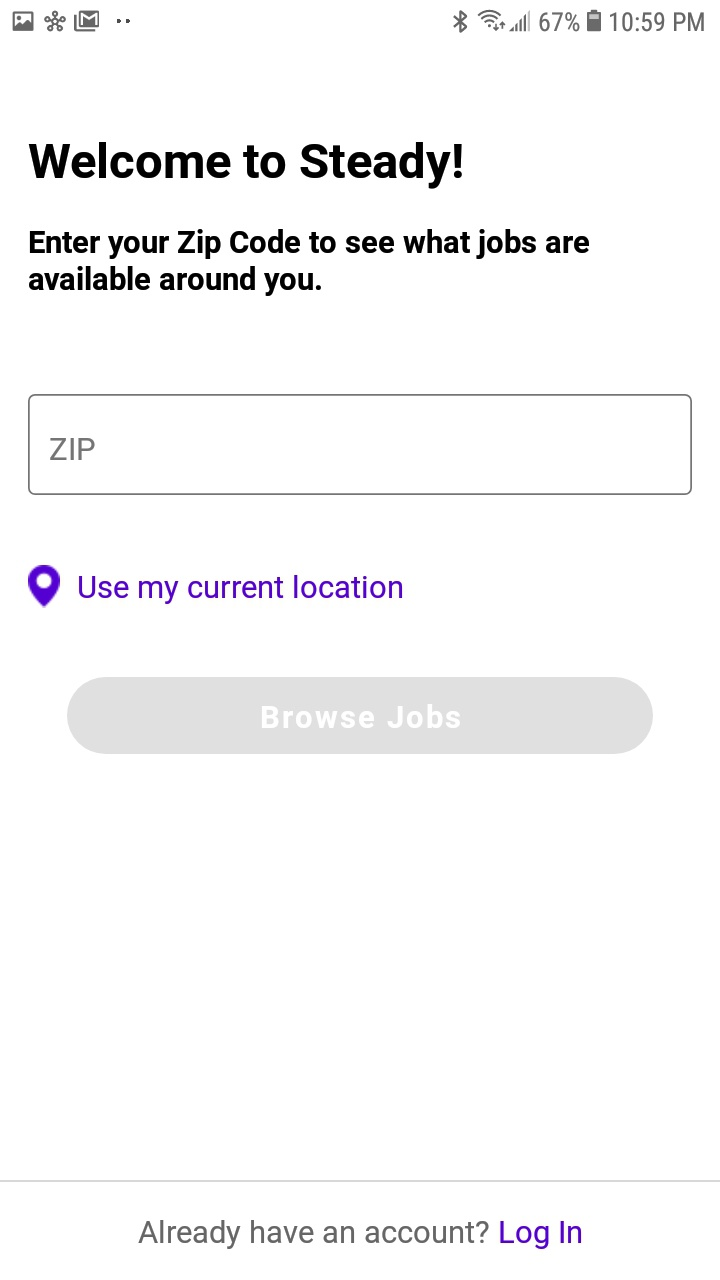EditText: (29, 395, 692, 496)
Icon: (28, 565, 61, 609)
Text: (29, 229, 590, 298), (29, 142, 463, 190), (138, 1219, 582, 1250), (79, 574, 403, 605), (50, 439, 96, 461)
TextButton: (67, 677, 653, 755)
UpperTaskBar: (1, 1, 720, 35)
